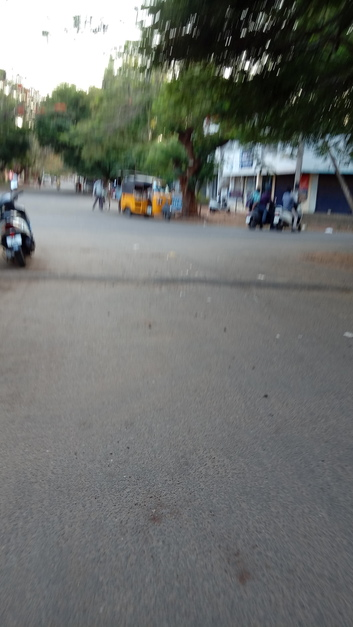bump: (2, 269, 353, 293)
